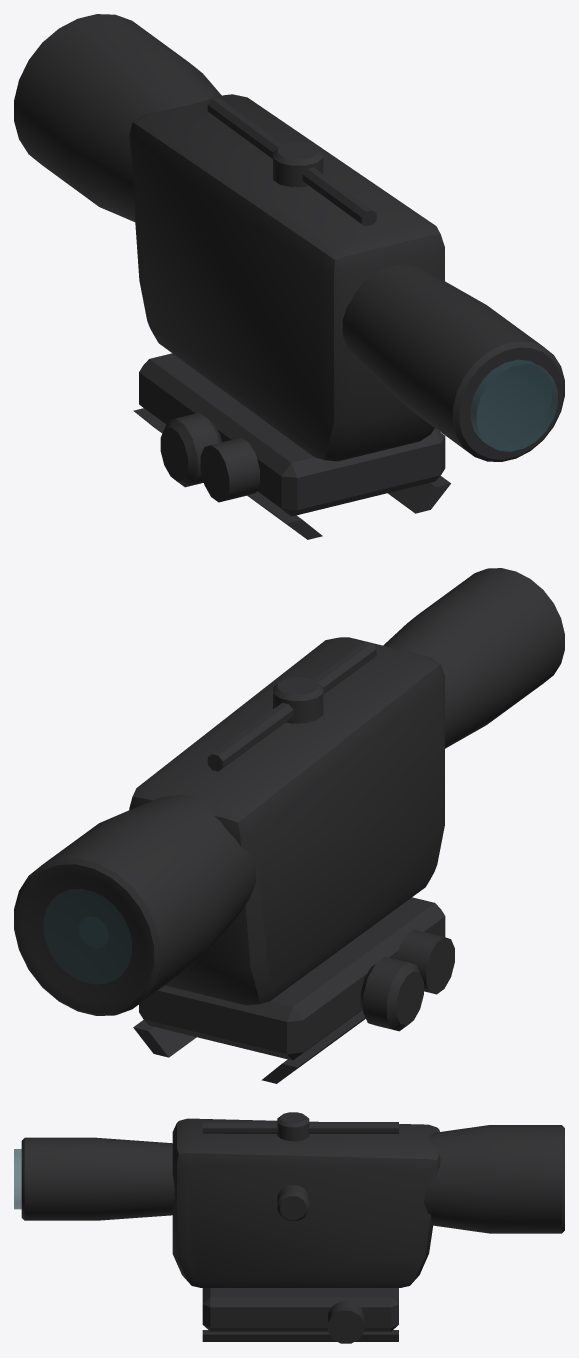
The model's file is ATT_Scope4x.glb.
3 renders of one model, top to bottom at view 1: azimuth 30°, elevation 25°; view 2: azimuth 150°, elevation 25°; view 3: azimuth 270°, elevation 25°, orthographic. The views are drawn at different scales.
Visible parts, largest first — view 1: Body, Glass; view 2: Body, Glass; view 3: Body, Glass.
Boxes of the visible parts, x1,y1,x2,y2 form: Body: (14,14,564,539); Glass: (471,359,557,451); Body: (14,568,564,1083); Glass: (43,889,131,984); Body: (21,1112,564,1343); Glass: (14,1149,21,1209).
Bounding box in the file's own units: 0.225 × 0.3 × 0.73.
